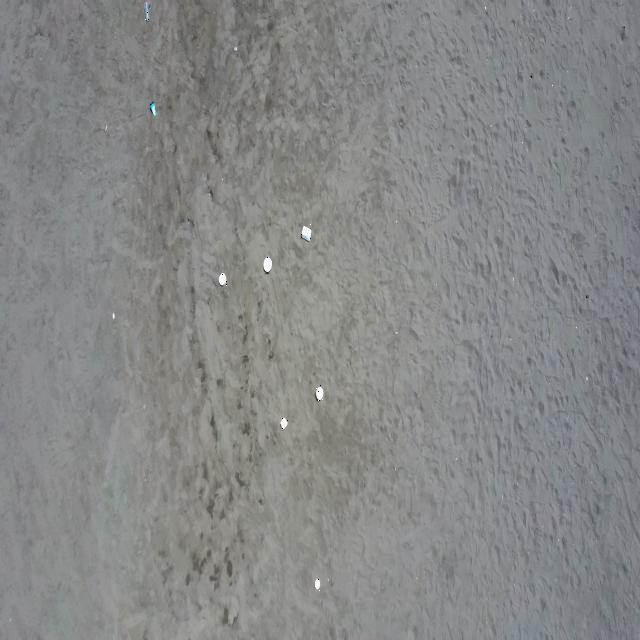take-away-containers: (301, 224, 312, 242), (263, 258, 272, 274), (218, 272, 227, 286), (280, 416, 288, 431), (316, 385, 323, 401), (315, 580, 320, 592)
takeaway-cup: (144, 2, 150, 22), (150, 101, 157, 116)
